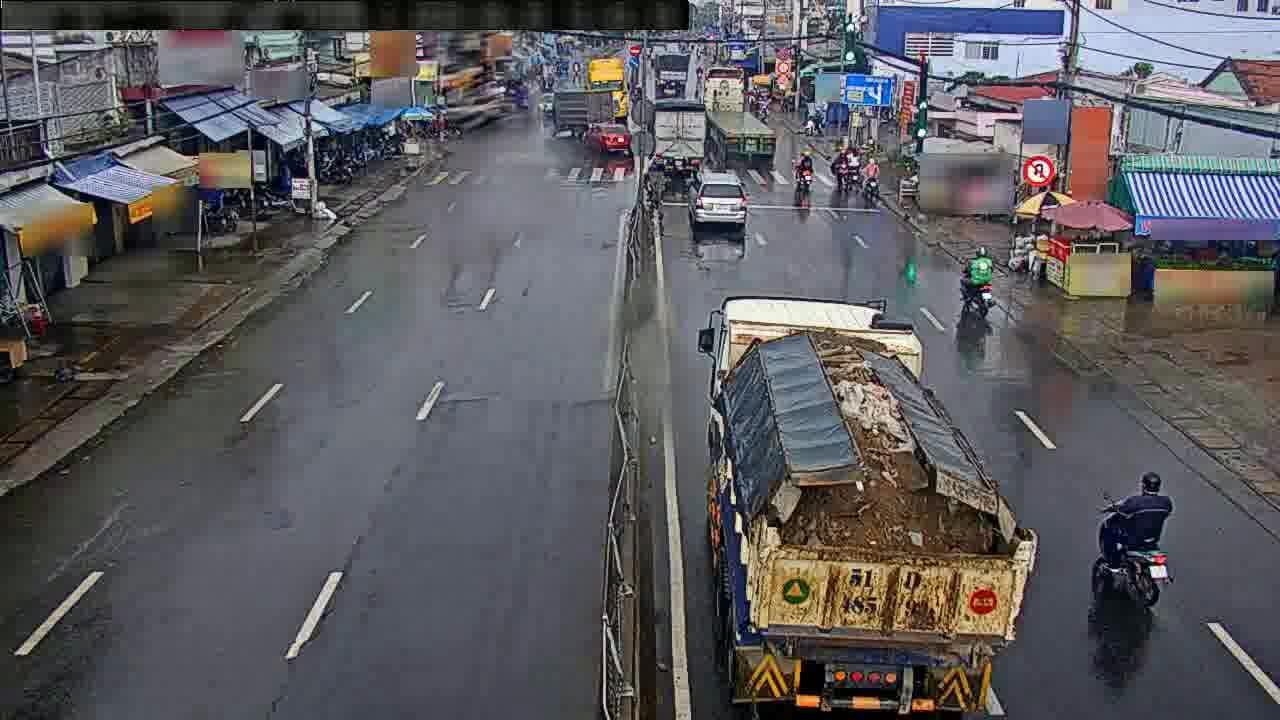car: (687, 170, 757, 234), (583, 113, 629, 156)
container: (715, 294, 1006, 700), (647, 102, 707, 165)
motorbike: (1092, 464, 1176, 607), (956, 246, 995, 319), (644, 159, 669, 208), (792, 150, 814, 193), (833, 144, 851, 191), (842, 135, 860, 182), (861, 155, 881, 196)
